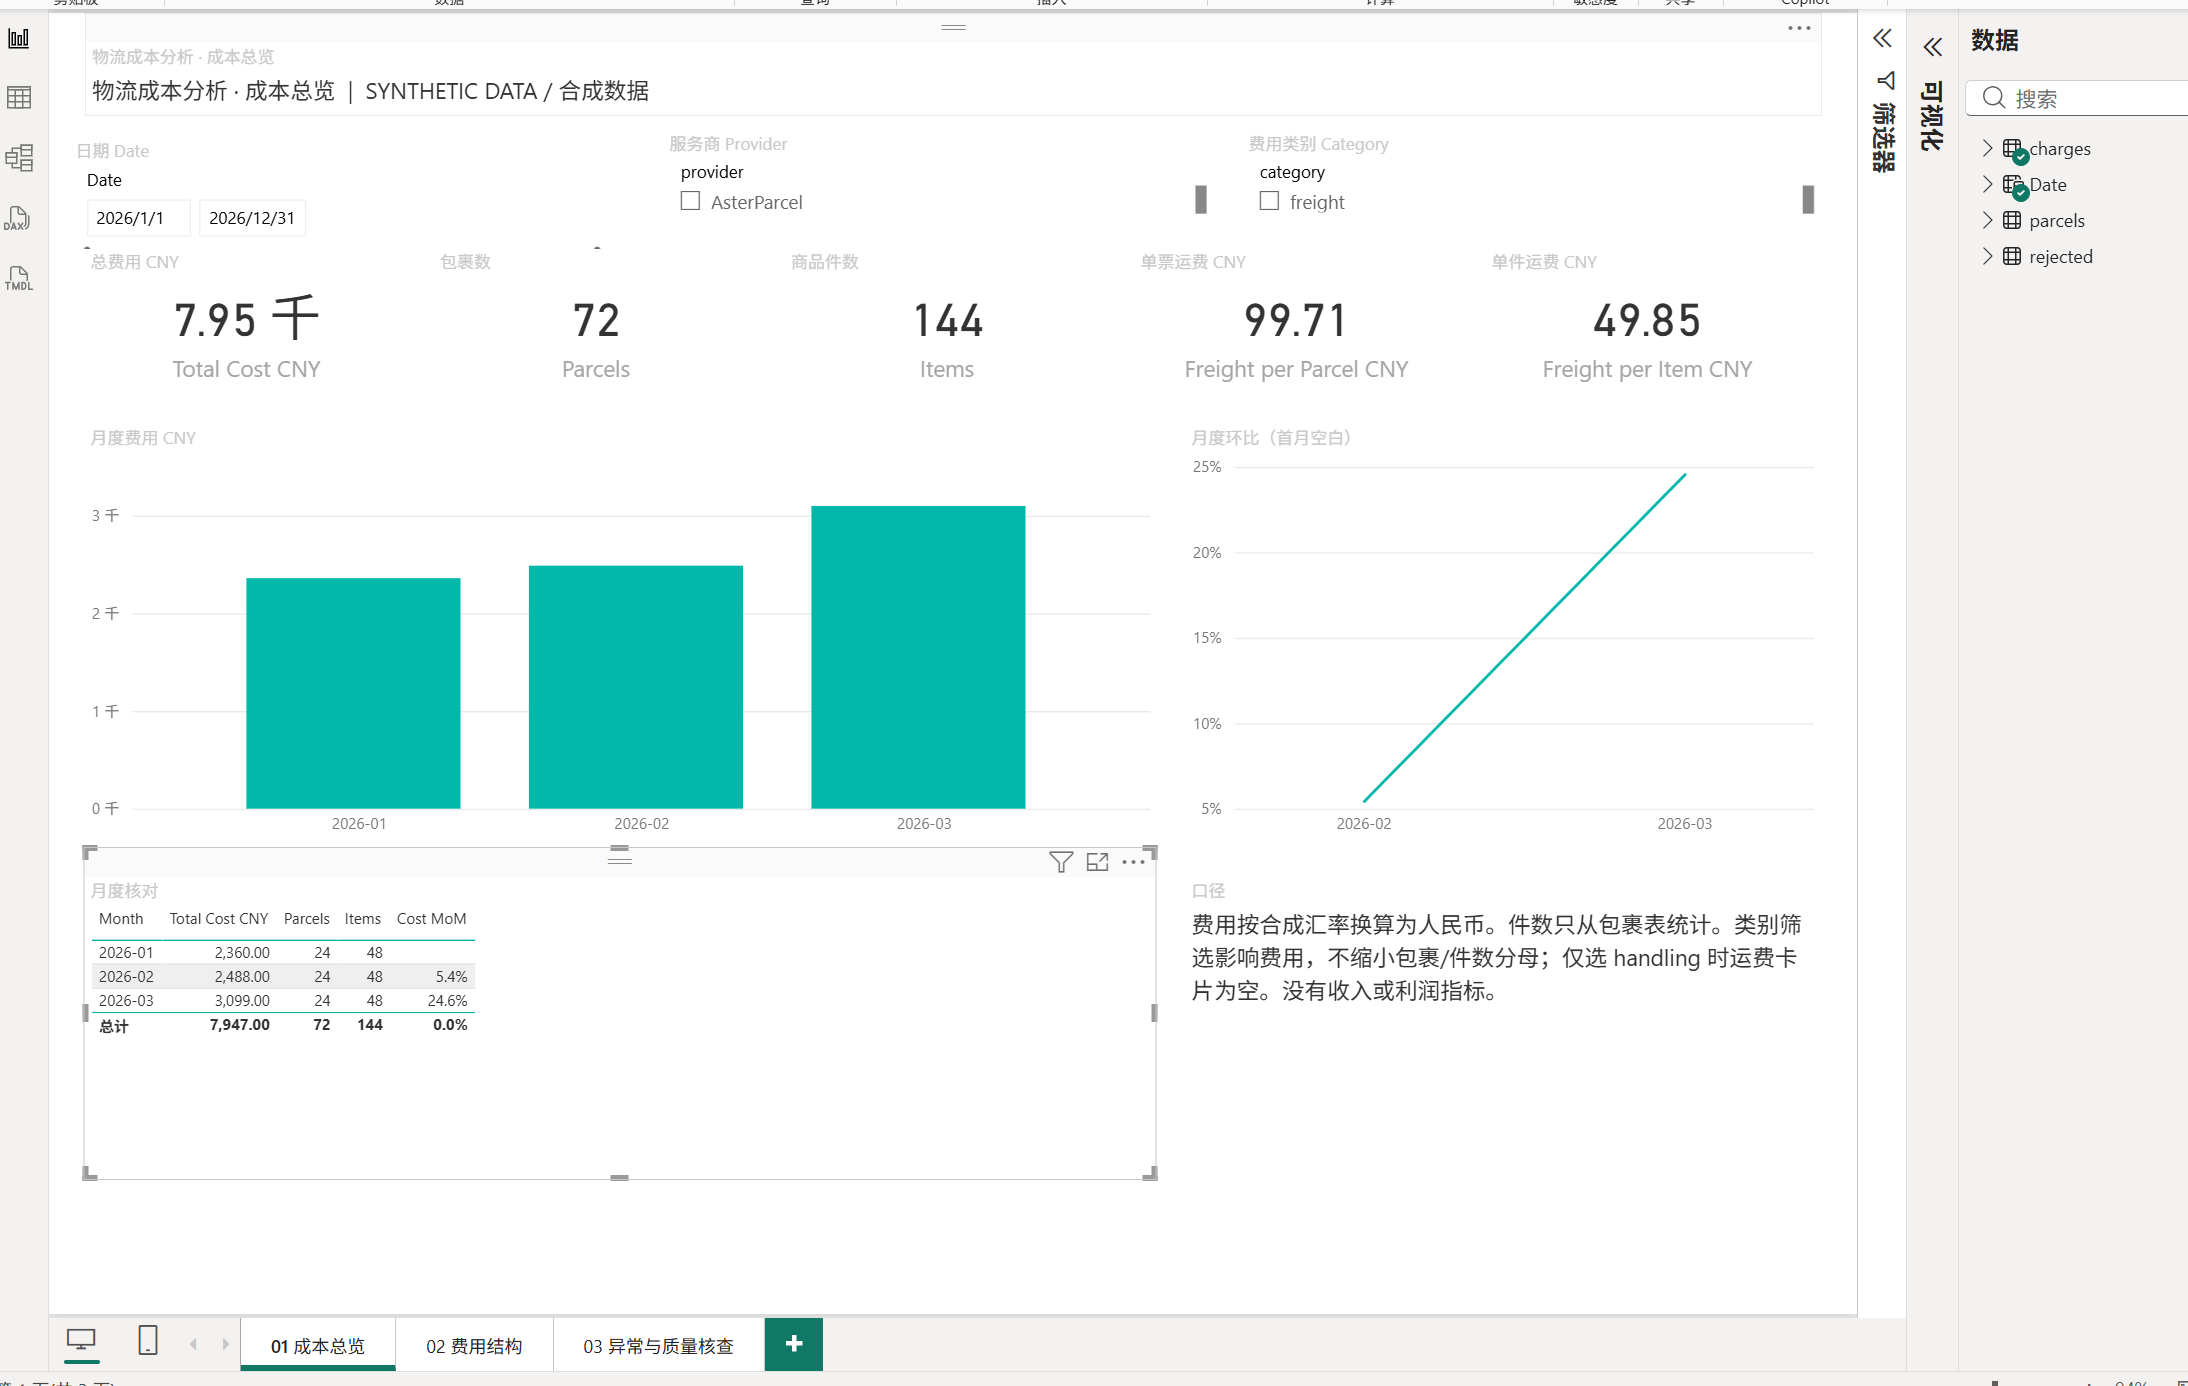

The dashboard page shown, as its layout file describes it:
{"tool":"powerbi","page":{"name":"01 成本总览","canvas":[1280,900],"ordinal":0},"visuals":[{"type":"textbox","title":"物流成本分析 · 成本总览","box":[24,5,1230,52],"z":0},{"type":"slicer","title":"日期 Date","fields":{"Values":["Date.Date"]},"box":[24,64,390,100],"z":1},{"type":"slicer","title":"服务商 Provider","fields":{"Values":["parcels.provider"]},"box":[434,64,390,100],"z":2},{"type":"slicer","title":"费用类别 Category","fields":{"Values":["charges.category"]},"box":[844,64,410,100],"z":3},{"type":"card","title":"总费用 CNY","fields":{"Values":["charges.Total Cost CNY"]},"box":[24,180,230,100],"z":4},{"type":"card","title":"包裹数","fields":{"Values":["charges.Parcels"]},"box":[272,180,230,100],"z":5},{"type":"card","title":"商品件数","fields":{"Values":["charges.Items"]},"box":[520,180,230,100],"z":6},{"type":"card","title":"单票运费 CNY","fields":{"Values":["charges.Freight per Parcel CNY"]},"box":[768,180,230,100],"z":7},{"type":"card","title":"单件运费 CNY","fields":{"Values":["charges.Freight per Item CNY"]},"box":[1016,180,230,100],"z":8},{"type":"clusteredColumnChart","title":"月度费用 CNY","fields":{"Category":["Date.Month"],"Y":["charges.Total Cost CNY"]},"box":[24,300,760,270],"z":9},{"type":"lineChart","title":"月度环比（首月空白）","fields":{"Category":["Date.Month"],"Y":["charges.Cost MoM"]},"box":[804,300,450,270],"z":10},{"type":"tableEx","title":"月度核对","fields":{"Values":["Date.Month","charges.Total Cost CNY","charges.Parcels","charges.Items","charges.Cost MoM"]},"box":[24,590,760,215],"z":11},{"type":"textbox","title":"口径","box":[804,590,450,215],"z":12}]}

Visuals, with their boxes on the page's 1280x900 design canvas (x1, y1, x2, y2). These are canvas units, not pixel positions in the 2188x1386 screenshot, which may show the page scaled, cropped or inside an application window:
"物流成本分析 · 成本总览" textbox: x1=24, y1=5, x2=1254, y2=57
"日期 Date" slicer: x1=24, y1=64, x2=414, y2=164
"服务商 Provider" slicer: x1=434, y1=64, x2=824, y2=164
"费用类别 Category" slicer: x1=844, y1=64, x2=1254, y2=164
"总费用 CNY" card: x1=24, y1=180, x2=254, y2=280
"包裹数" card: x1=272, y1=180, x2=502, y2=280
"商品件数" card: x1=520, y1=180, x2=750, y2=280
"单票运费 CNY" card: x1=768, y1=180, x2=998, y2=280
"单件运费 CNY" card: x1=1016, y1=180, x2=1246, y2=280
"月度费用 CNY" clusteredColumnChart: x1=24, y1=300, x2=784, y2=570
"月度环比（首月空白）" lineChart: x1=804, y1=300, x2=1254, y2=570
"月度核对" tableEx: x1=24, y1=590, x2=784, y2=805
"口径" textbox: x1=804, y1=590, x2=1254, y2=805
